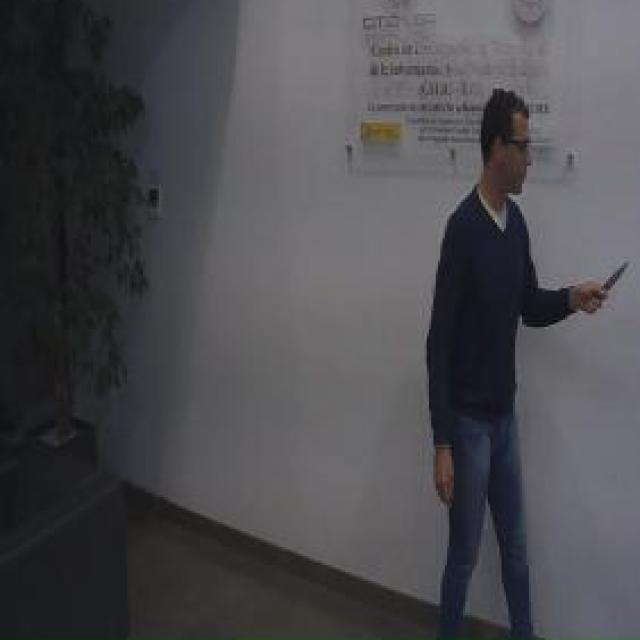knife: (584, 256, 634, 318)
